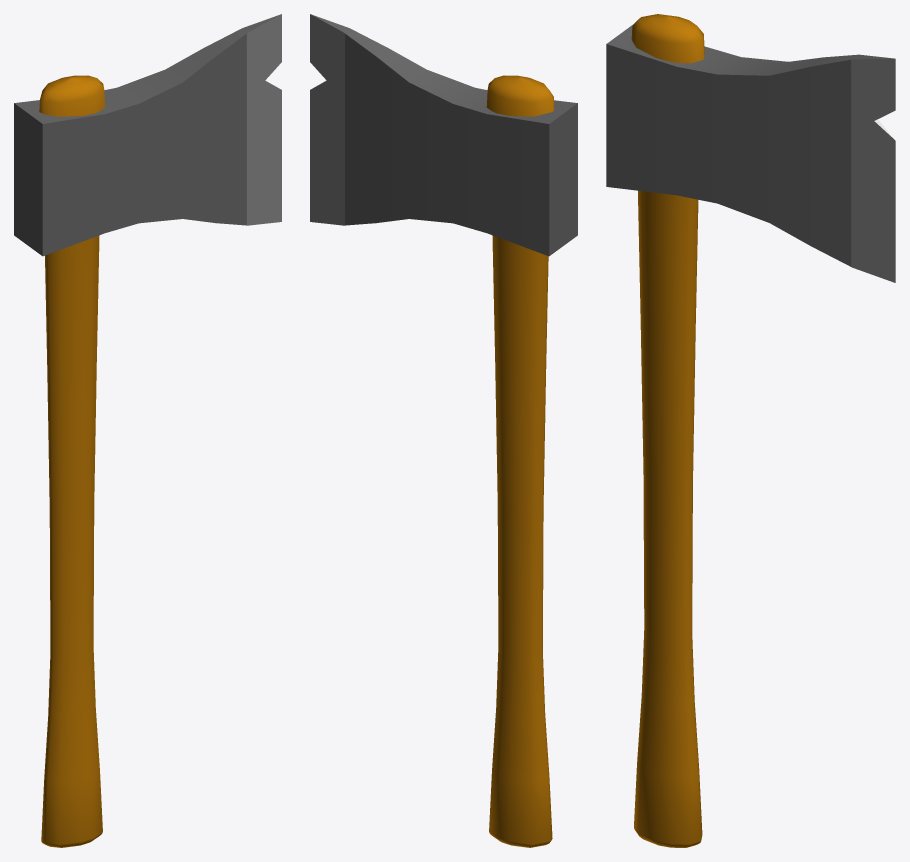
The model's file is Axe.fbx.
3 renders of one model, left to right at view 1: azimuth 30°, elevation 25°; view 2: azimuth 150°, elevation 25°; view 3: azimuth 330°, elevation 25°, orthographic. The views are drawn at different scales.
Parts seen in each view (by area): view 1: Cube, Loft; view 2: Cube, Loft; view 3: Cube, Loft.
Part boxes in pixels (x1,y1,x2,y2): Cube: (14,14,281,256); Loft: (39,75,105,847); Cube: (310,14,577,256); Loft: (486,75,554,847); Cube: (606,24,895,282); Loft: (631,14,704,847).
Bounding box in the file's own units: 401 × 1172 × 78.44.
Materials: 1 (1 with a texture image).
